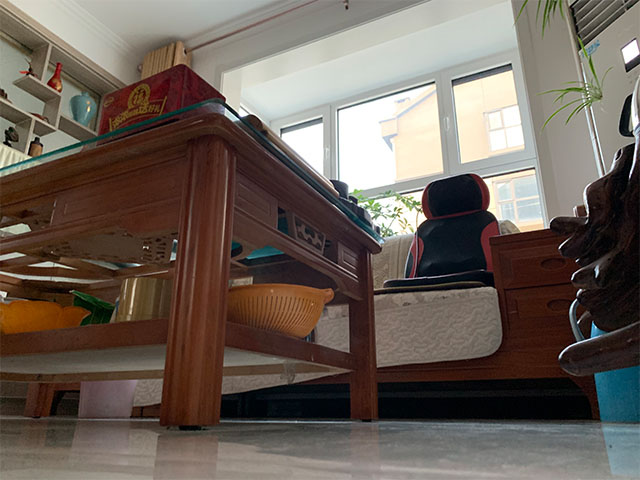sofa: (368, 219, 599, 420)
table: (1, 98, 387, 431)
